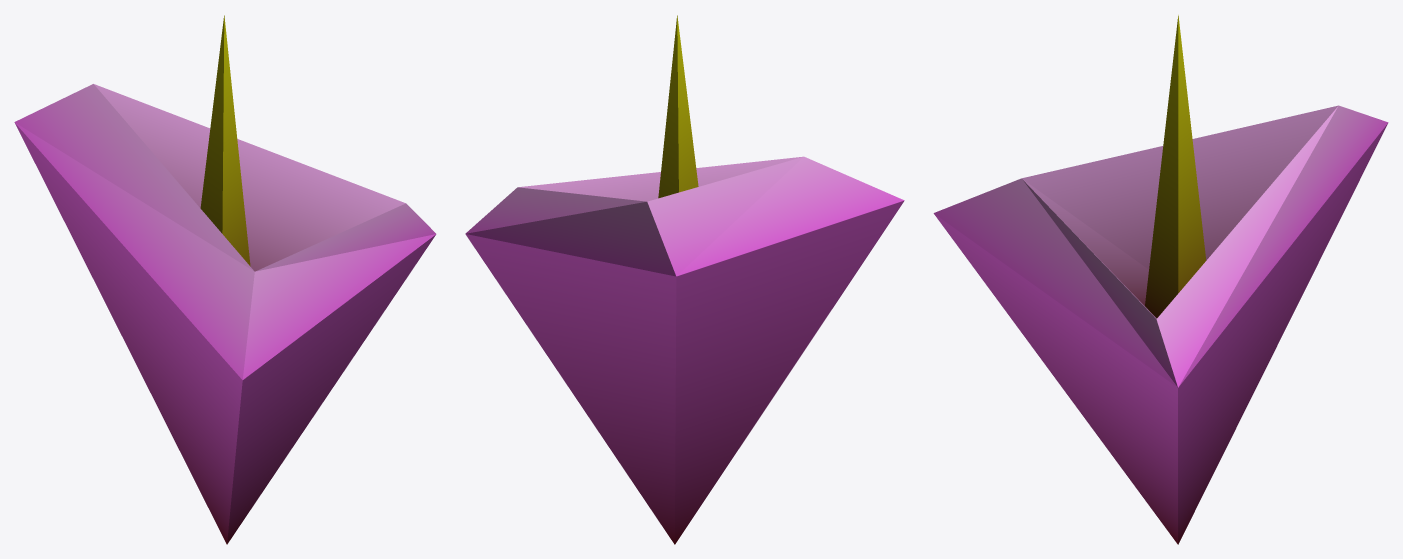
File: c_flower_tulip_aa.fbx
The picture shows the model from 3 angles, left to right: view 1: azimuth 30°, elevation 25°; view 2: azimuth 150°, elevation 25°; view 3: azimuth 270°, elevation 25°; orthographic projection.
Parts seen in each view (by area): view 1: c_flower_tulip_aa; view 2: c_flower_tulip_aa; view 3: c_flower_tulip_aa.
Boxes of the visible parts, x1,y1,x2,y2 form: c_flower_tulip_aa: [14, 15, 436, 544]; c_flower_tulip_aa: [465, 15, 904, 544]; c_flower_tulip_aa: [933, 15, 1388, 544].
Size of the model in its own units: 0.2266 by 0.3635 by 0.283.
